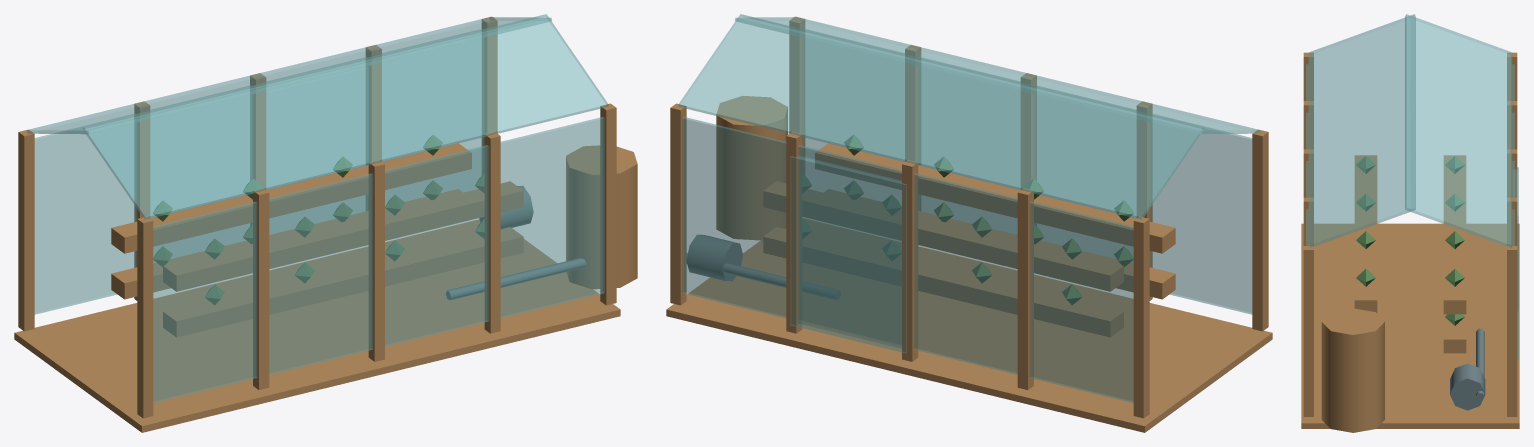
Rendered from hydroponic-house.source.glb.
3 renders of one model, left to right at view 1: azimuth 30°, elevation 25°; view 2: azimuth 150°, elevation 25°; view 3: azimuth 270°, elevation 25°, orthographic. The views are drawn at different scales.
Parts seen in each view (by area): view 1: hydroponic-house-wall-0.81-mesh, hydroponic-house-roof-0.38-mesh, hydroponic-house-ground-curb-pad-mesh, hydroponic-house-wall--0.81-mesh, hydroponic-house-roof--0.38-mesh, hydroponic-house-channel--0.35-1-mesh, hydroponic-house-channel-0.35-1-mesh, hydroponic-house-channel-0.35-0-mesh, hydroponic-house-nutrient-tank-mesh, hydroponic-house-post-1.8-0.8-mesh, hydroponic-house-post--1.8-0.8-mesh, hydroponic-house-post--1.8--0.8-mesh (+10 smaller); view 2: hydroponic-house-wall--0.81-mesh, hydroponic-house-roof--0.38-mesh, hydroponic-house-wall-0.81-mesh, hydroponic-house-ground-curb-pad-mesh, hydroponic-house-front-service-door-mesh, hydroponic-house-roof-0.38-mesh, hydroponic-house-nutrient-tank-mesh, hydroponic-house-channel-0.35-1-mesh, hydroponic-house-channel--0.35-1-mesh, hydroponic-house-channel--0.35-0-mesh, hydroponic-house-post-1.8--0.8-mesh, hydroponic-house-post--1.8--0.8-mesh (+11 smaller); view 3: hydroponic-house-ground-curb-pad-mesh, hydroponic-house-roof--0.38-mesh, hydroponic-house-roof-0.38-mesh, hydroponic-house-nutrient-tank-mesh, hydroponic-house-channel--0.35-1-mesh, hydroponic-house-channel-0.35-1-mesh, hydroponic-house-post-1.8--0.8-mesh, hydroponic-house-post-1.8-0.8-mesh, hydroponic-house-circulation-pump-mesh, hydroponic-house-channel--0.35-0-mesh, hydroponic-house-post-0-0.8-mesh, hydroponic-house-post-0--0.8-mesh (+10 smaller).
Boxes of the visible parts, x1,y1,x2,y2 form: hydroponic-house-wall-0.81-mesh: (153,117,604,402); hydroponic-house-roof-0.38-mesh: (83,14,608,219); hydroponic-house-ground-curb-pad-mesh: (14,219,620,432); hydroponic-house-wall--0.81-mesh: (34,29,484,314); hydroponic-house-roof--0.38-mesh: (26,17,551,134); hydroponic-house-channel--0.35-1-mesh: (111,143,471,253); hydroponic-house-channel-0.35-1-mesh: (163,181,523,291); hydroponic-house-channel-0.35-0-mesh: (163,227,523,337); hydroponic-house-nutrient-tank-mesh: (566,145,637,288); hydroponic-house-post-1.8-0.8-mesh: (600,103,616,305); hydroponic-house-post--1.8-0.8-mesh: (137,216,153,418); hydroponic-house-post--1.8--0.8-mesh: (18,130,34,331); hydroponic-house-wall--0.81-mesh: (682,117,1133,402); hydroponic-house-roof--0.38-mesh: (678,14,1203,219); hydroponic-house-wall-0.81-mesh: (802,29,1252,314); hydroponic-house-ground-curb-pad-mesh: (666,219,1272,432); hydroponic-house-front-service-door-mesh: (790,156,906,353); hydroponic-house-roof-0.38-mesh: (735,17,1260,134); hydroponic-house-nutrient-tank-mesh: (716,96,787,240); hydroponic-house-channel-0.35-1-mesh: (815,143,1175,253); hydroponic-house-channel--0.35-1-mesh: (763,181,1123,291); hydroponic-house-channel--0.35-0-mesh: (763,227,1123,337); hydroponic-house-post-1.8--0.8-mesh: (670,103,686,305); hydroponic-house-post--1.8--0.8-mesh: (1133,216,1149,418); hydroponic-house-ground-curb-pad-mesh: (1301,223,1519,428); hydroponic-house-roof--0.38-mesh: (1405,14,1512,247); hydroponic-house-roof-0.38-mesh: (1308,14,1415,247); hydroponic-house-nutrient-tank-mesh: (1321,308,1384,432); hydroponic-house-channel--0.35-1-mesh: (1443,155,1466,314); hydroponic-house-channel-0.35-1-mesh: (1354,155,1377,313); hydroponic-house-post-1.8--0.8-mesh: (1507,246,1517,416); hydroponic-house-post-1.8-0.8-mesh: (1303,246,1313,416); hydroponic-house-circulation-pump-mesh: (1450,363,1485,410); hydroponic-house-channel--0.35-0-mesh: (1443,314,1466,353); hydroponic-house-post-0-0.8-mesh: (1303,149,1313,197); hydroponic-house-post-0--0.8-mesh: (1507,149,1517,197).
Bounding box in the file's own units: 4.06 × 1.9 × 1.72.
